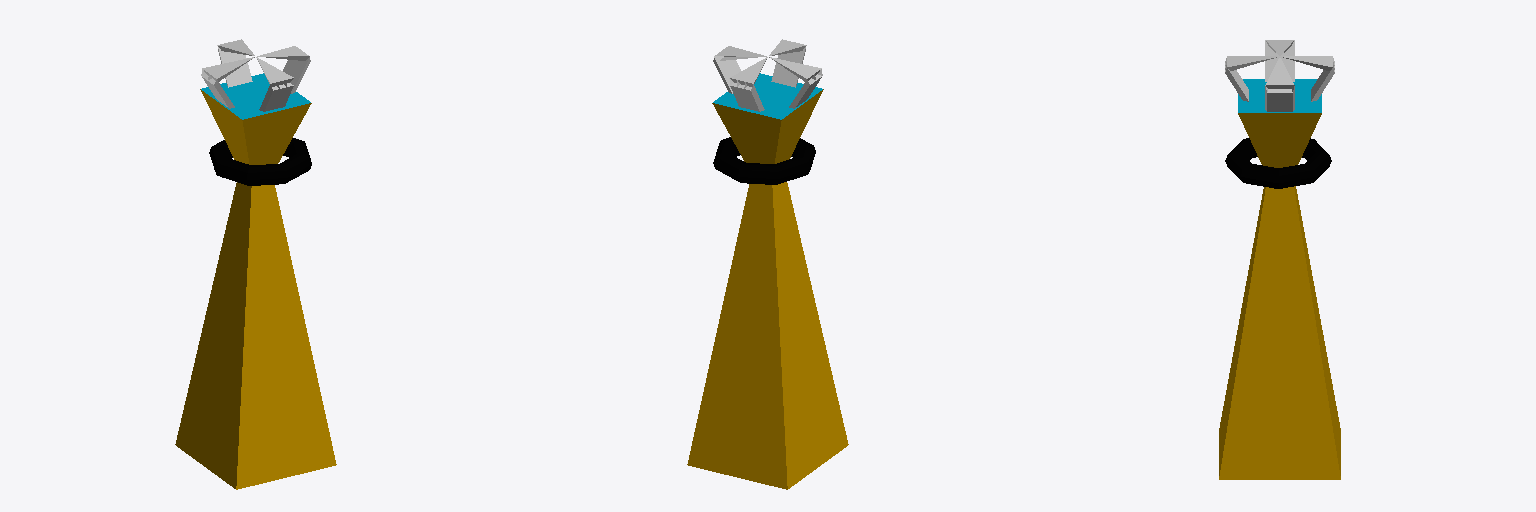
File: Edificio3.obj
The picture shows the model from 3 angles: view 1: azimuth 30°, elevation 25°; view 2: azimuth 150°, elevation 25°; view 3: azimuth 270°, elevation 25°; orthographic projection.
Visible parts, largest first — view 1: Cube.004; view 2: Cube.004; view 3: Cube.004.
Part boxes in pixels (left/top/right/bottom): Cube.004: left=175, top=39, right=336, bottom=489; Cube.004: left=687, top=39, right=848, bottom=489; Cube.004: left=1219, top=40, right=1340, bottom=479.
Size of the model in its own units: 0.6901 by 2.62 by 0.7263.